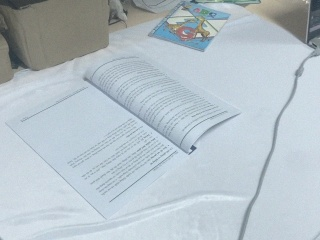book: (147, 1, 232, 53)
box: (1, 1, 109, 71), (1, 22, 14, 92)
